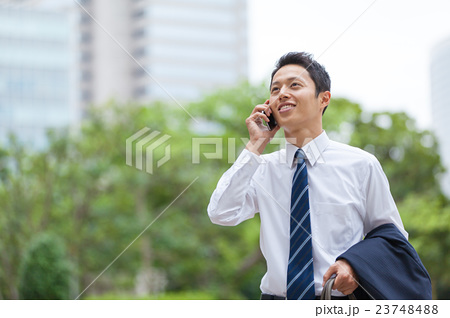phone: (246, 96, 282, 138)
talk: (246, 75, 313, 145)
